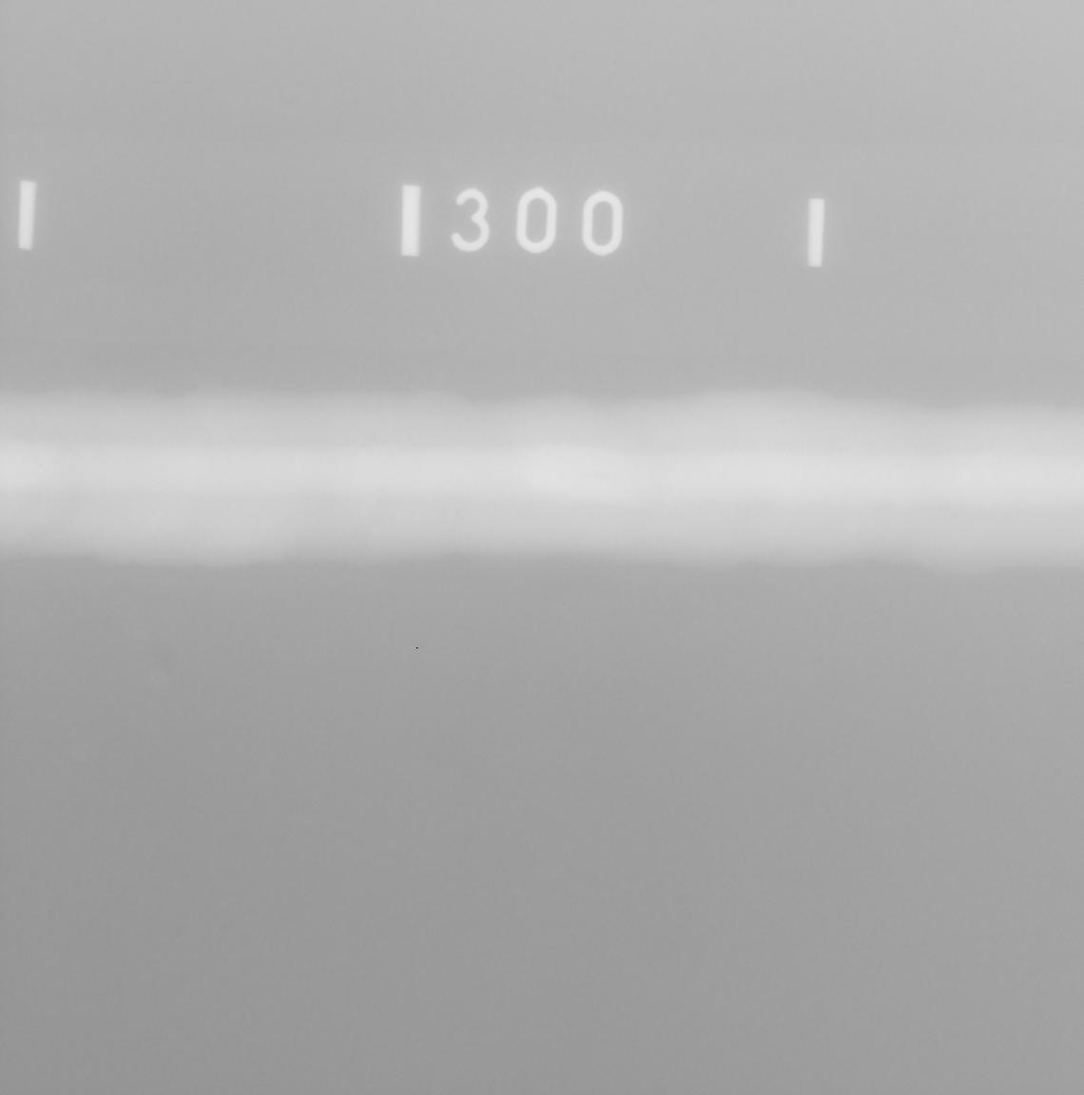Incomplete Root Penetration: (582, 470, 611, 478)
